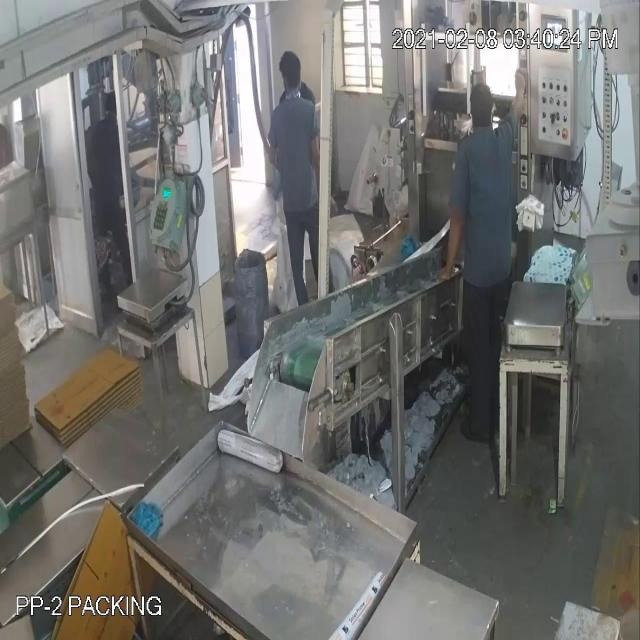No_Gloves: (30, 68, 521, 240)
